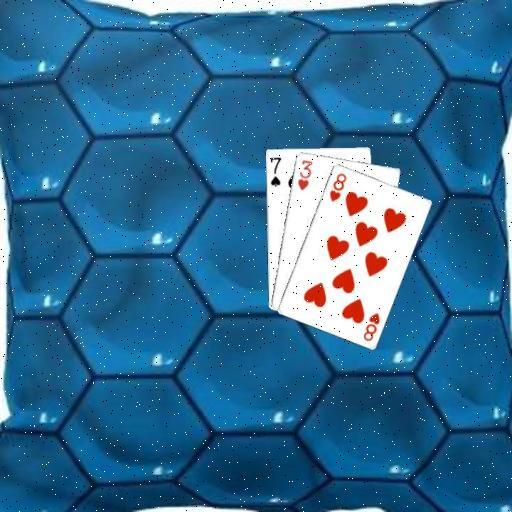3H: (295, 157, 314, 192)
7S: (267, 154, 283, 188)
8H: (326, 171, 348, 203), (360, 310, 382, 342)
